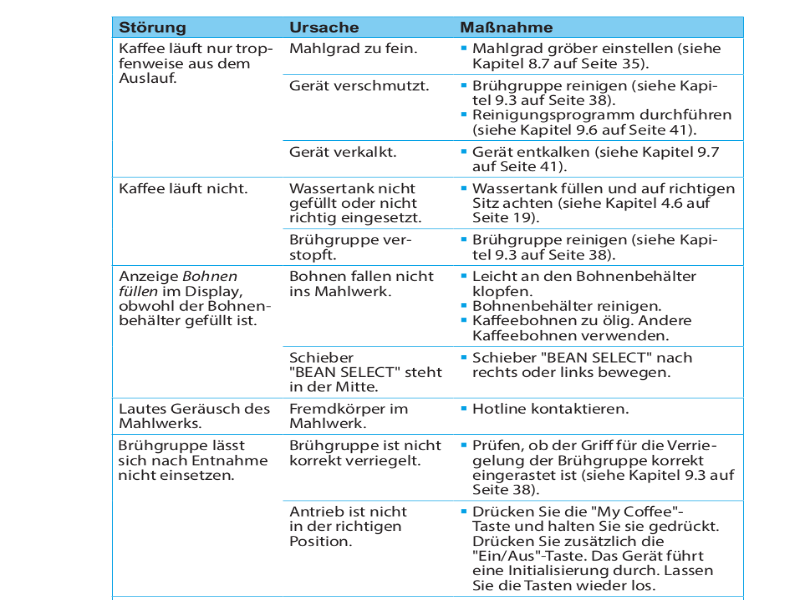border: (100, 10, 757, 600)
cell: (459, 500, 742, 596), (454, 270, 739, 343), (457, 76, 738, 138), (459, 437, 739, 496), (457, 349, 742, 391), (456, 182, 740, 224), (116, 269, 277, 337), (455, 229, 742, 264), (459, 38, 734, 71), (284, 504, 454, 555), (456, 143, 741, 173), (115, 40, 275, 90), (116, 438, 276, 488), (284, 350, 454, 396), (284, 269, 444, 310), (281, 438, 451, 476), (283, 179, 426, 224), (282, 401, 454, 430), (116, 400, 275, 431), (458, 402, 672, 425), (285, 232, 427, 263), (284, 79, 439, 101), (284, 142, 402, 166), (284, 40, 423, 60), (115, 181, 253, 200), (454, 18, 562, 36), (286, 18, 379, 35), (117, 17, 190, 35)
